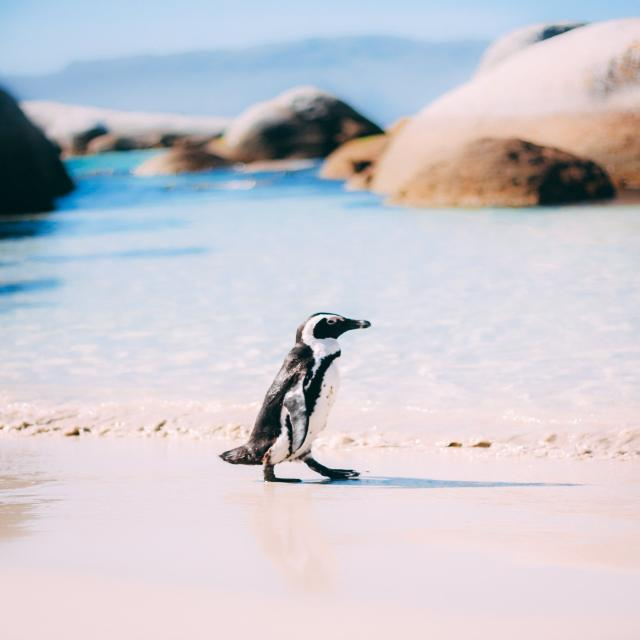Penguins: (218, 304, 380, 498)
